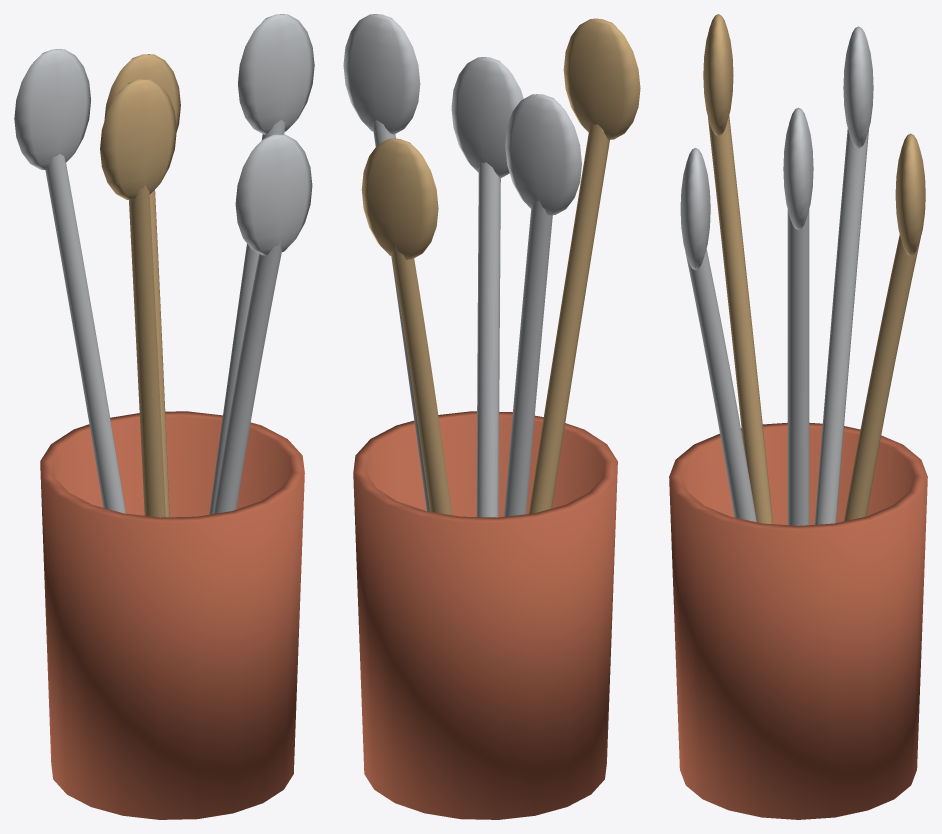
Rendered from i_kit_15.glb.
3 renders of one model, left to right at view 1: azimuth 30°, elevation 25°; view 2: azimuth 150°, elevation 25°; view 3: azimuth 270°, elevation 25°, orthographic. The views are drawn at different scales.
Visible parts, largest first — view 1: o, o.005, o.010, o.008, o.002, o.006, o.007, o.009, o.001, o.004, o.003; view 2: o, o.007, o.009, o.004, o.006, o.002, o.008, o.005, o.010, o.003, o.001; view 3: o, o.007, o.005, o.001, o.003, o.009, o.004, o.002, o.010, o.008, o.006.
Part boxes in pixels (x1=…): o: x1=40, y1=411, x2=304, y2=819; o.005: x1=45, y1=154, x2=125, y2=513; o.010: x1=235, y1=134, x2=312, y2=255; o.008: x1=100, y1=79, x2=176, y2=200; o.002: x1=238, y1=14, x2=314, y2=134; o.006: x1=14, y1=49, x2=90, y2=170; o.007: x1=129, y1=184, x2=165, y2=517; o.009: x1=213, y1=240, x2=281, y2=513; o.001: x1=209, y1=120, x2=285, y2=514; o.004: x1=104, y1=54, x2=180, y2=131; o.003: x1=149, y1=190, x2=169, y2=517; o: x1=353, y1=411, x2=617, y2=819; o.007: x1=529, y1=124, x2=609, y2=513; o.009: x1=476, y1=162, x2=500, y2=517; o.004: x1=361, y1=138, x2=438, y2=259; o.006: x1=505, y1=94, x2=581, y2=215; o.002: x1=343, y1=14, x2=420, y2=134; o.008: x1=563, y1=18, x2=640, y2=139; o.005: x1=504, y1=200, x2=552, y2=516; o.010: x1=451, y1=57, x2=523, y2=177; o.003: x1=392, y1=245, x2=452, y2=515; o.001: x1=372, y1=120, x2=429, y2=511; o: x1=669, y1=422, x2=927, y2=819; o.007: x1=708, y1=116, x2=773, y2=524; o.005: x1=814, y1=128, x2=868, y2=524; o.001: x1=787, y1=209, x2=809, y2=525; o.003: x1=844, y1=235, x2=920, y2=521; o.009: x1=685, y1=249, x2=756, y2=522; o.004: x1=895, y1=133, x2=925, y2=256; o.002: x1=783, y1=107, x2=813, y2=229; o.010: x1=680, y1=148, x2=710, y2=270; o.008: x1=703, y1=14, x2=733, y2=136; o.006: x1=843, y1=26, x2=873, y2=148.
Bounding box in the file's own units: 0.1403 × 0.3671 × 0.12.
